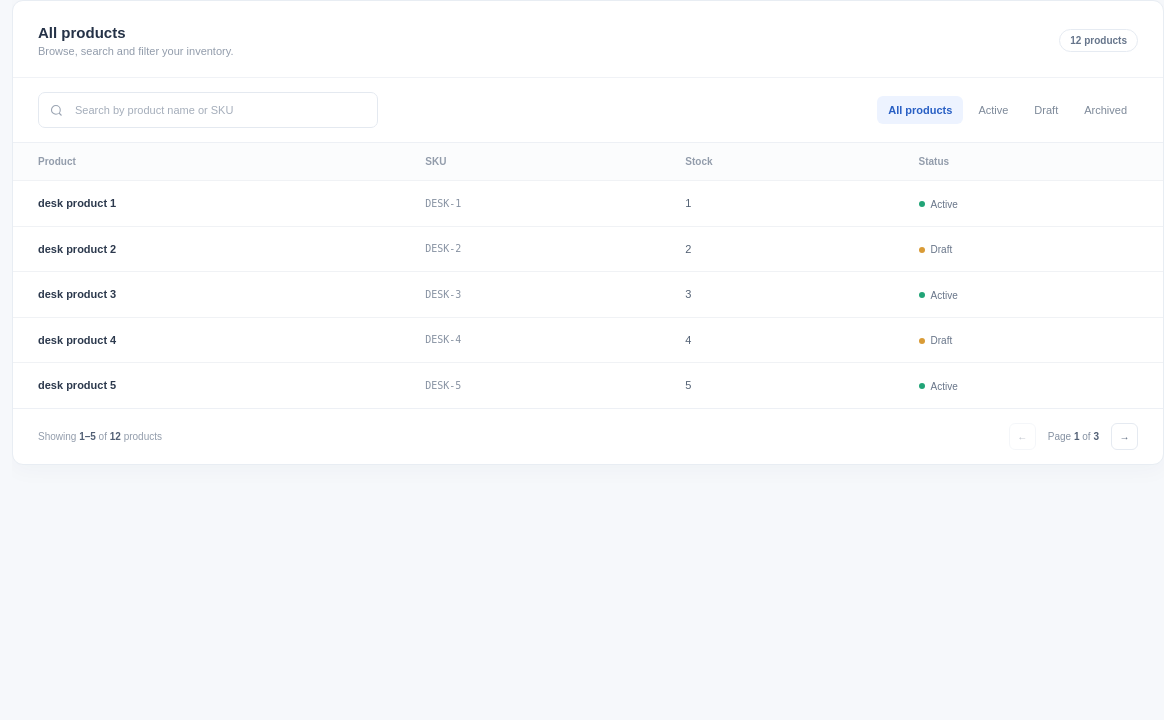
Test: Catalogue component › labels retained rows after failure, preserves their count/page and disables pagination until retry succeeds
Expected: the text "desk product 1" is shown, top-left (13, 180), bottom-right (400, 226)
In the search field named "Search products by name or SKU": point(220, 110) top-left (73, 103), bottom-right (367, 117), type "product 2"
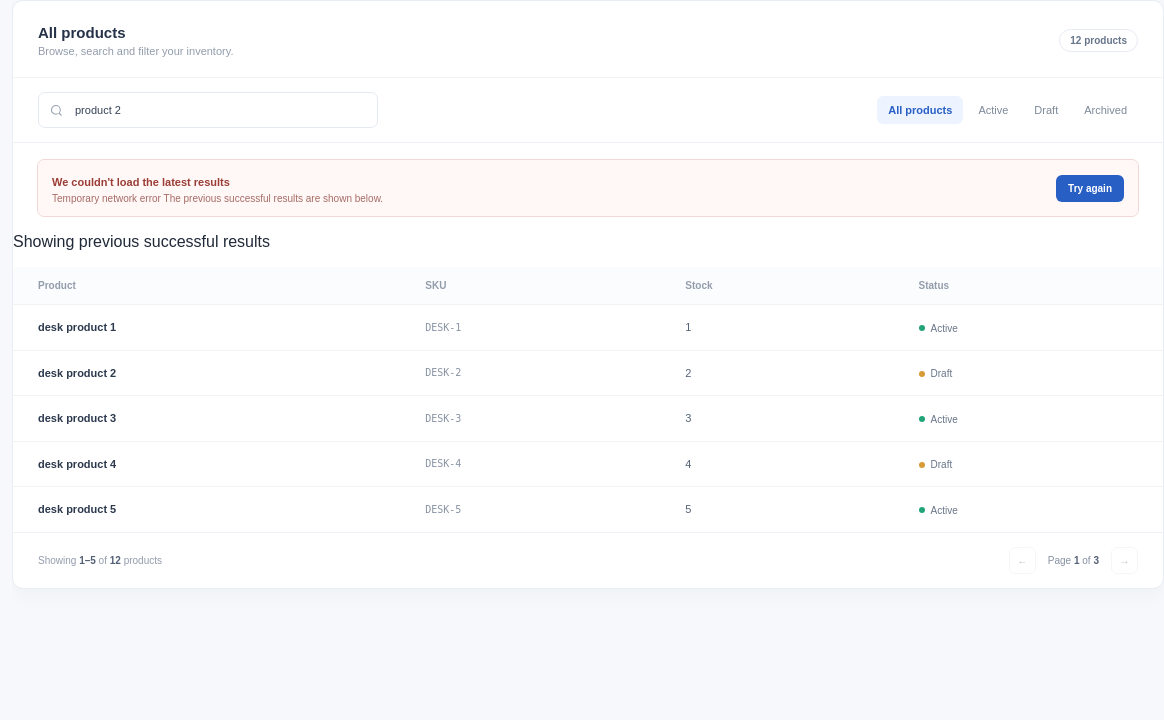
Expected: the button named "Next page" is disabled, top-left (1111, 546), bottom-right (1138, 574)
Result: the message shows "Temporary network error" at top-left (52, 193), bottom-right (161, 204)
Result: the text "Showing previous successful results" is shown at top-left (13, 233), bottom-right (270, 250)
Click the button "Try again": point(1090, 188) top-left (1056, 174), bottom-right (1124, 202)
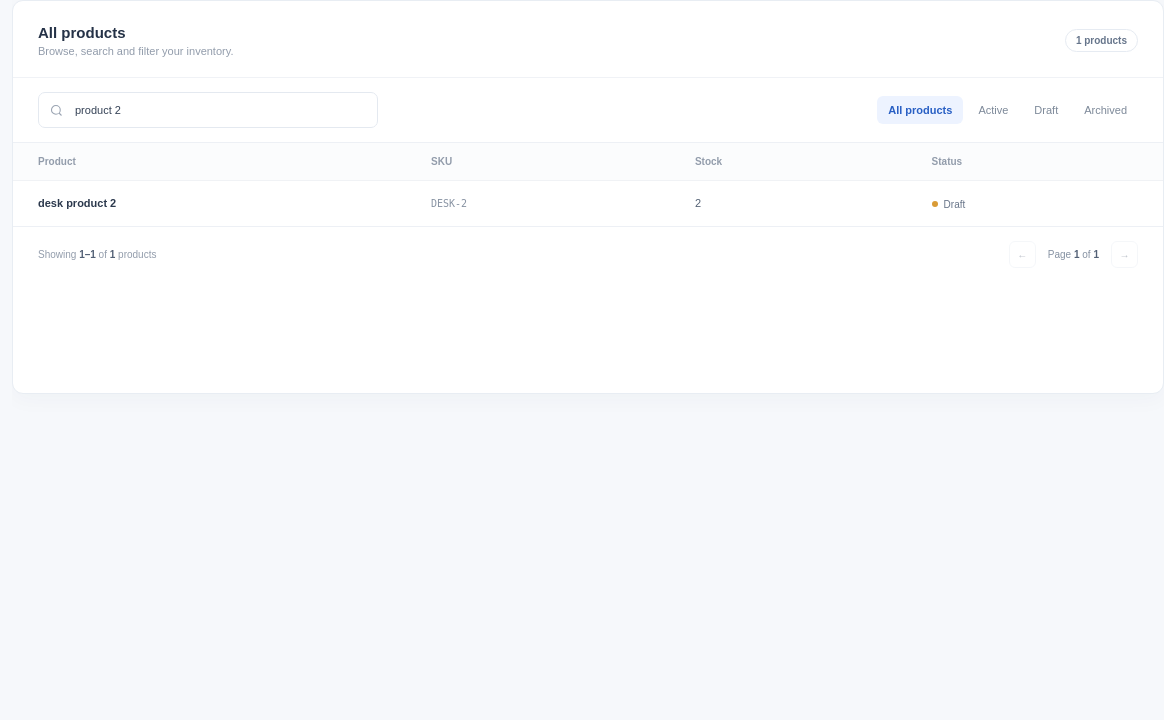
Expected: the text "desk product 2" is shown, top-left (13, 180), bottom-right (406, 226)
Result: the message is gone
